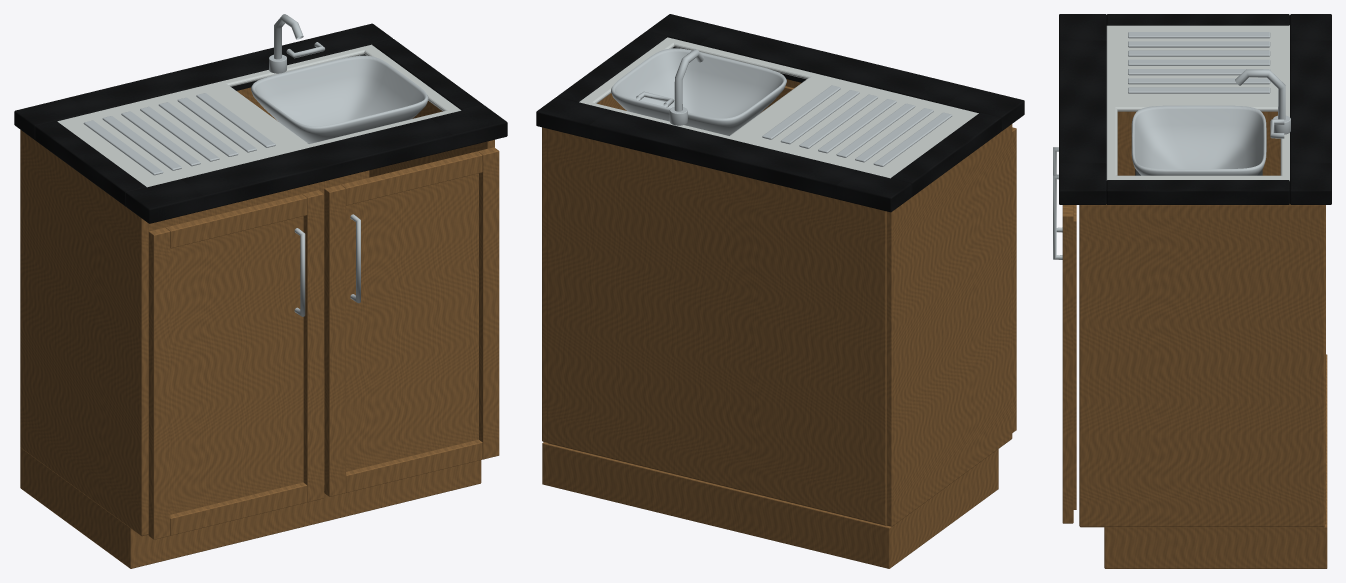
Rendered from sink-cabinet.glb.
3 renders of one model, left to right at view 1: azimuth 30°, elevation 25°; view 2: azimuth 150°, elevation 25°; view 3: azimuth 270°, elevation 25°, orthographic.
Parts seen in each view (by area): view 1: sink-cabinet · oak.001, sink-cabinet · stone.001, sink-cabinet · metal.002, sink-cabinet · silver.002; view 2: sink-cabinet · oak.001, sink-cabinet · stone.001, sink-cabinet · metal.002, sink-cabinet · silver.002; view 3: sink-cabinet · oak.001, sink-cabinet · stone.001, sink-cabinet · metal.002, sink-cabinet · silver.002.
Boxes of the visible parts, bbox=[...] form: sink-cabinet · oak.001: bbox=[20, 87, 499, 568]; sink-cabinet · stone.001: bbox=[14, 23, 507, 223]; sink-cabinet · metal.002: bbox=[83, 14, 428, 316]; sink-cabinet · silver.002: bbox=[57, 44, 461, 187]; sink-cabinet · oak.001: bbox=[542, 79, 1016, 568]; sink-cabinet · stone.001: bbox=[536, 14, 1024, 212]; sink-cabinet · metal.002: bbox=[611, 48, 952, 166]; sink-cabinet · silver.002: bbox=[579, 37, 978, 178]; sink-cabinet · oak.001: bbox=[1062, 111, 1327, 568]; sink-cabinet · stone.001: bbox=[1059, 14, 1331, 204]; sink-cabinet · metal.002: bbox=[1053, 32, 1290, 259]; sink-cabinet · silver.002: bbox=[1106, 25, 1289, 180].
Bounding box in the file's own units: 0.9 × 1.05 × 0.6.
5 materials, 2 textured.
